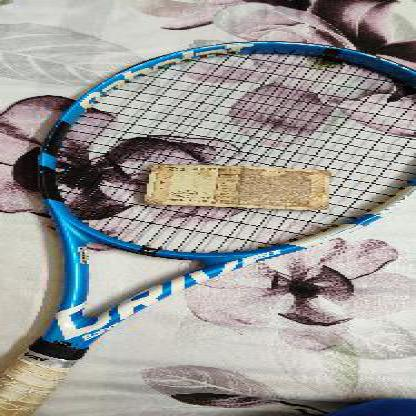New10Back: (145, 168, 329, 204)
